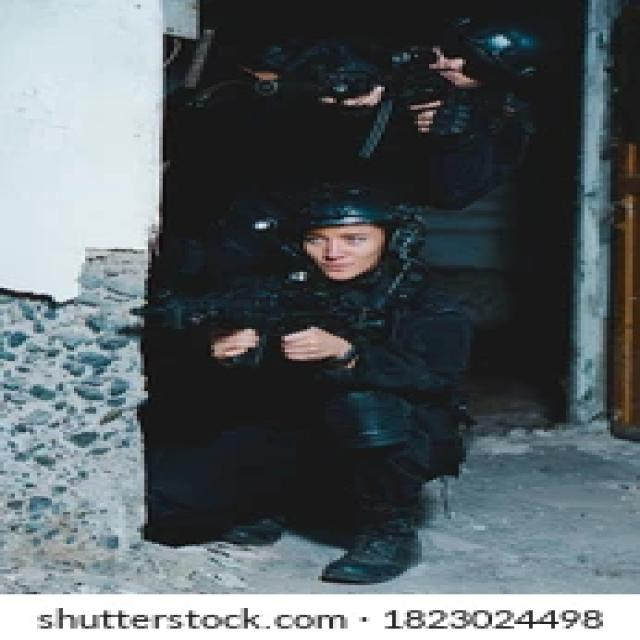soldier: (155, 186, 494, 590), (209, 8, 573, 182)
